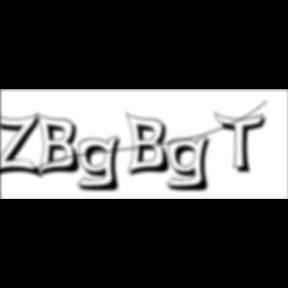B: (36, 111, 86, 179), (126, 111, 176, 179)
T: (214, 112, 272, 176)
Z: (0, 112, 46, 181)
g: (76, 134, 128, 194), (166, 134, 218, 194)
